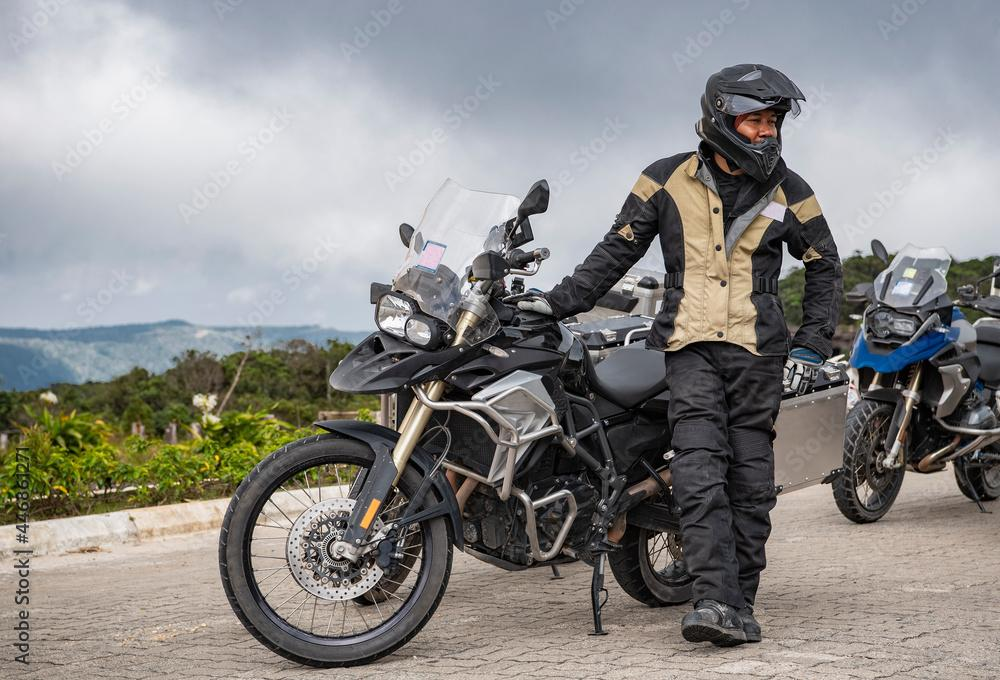helmet: (694, 62, 808, 184)
